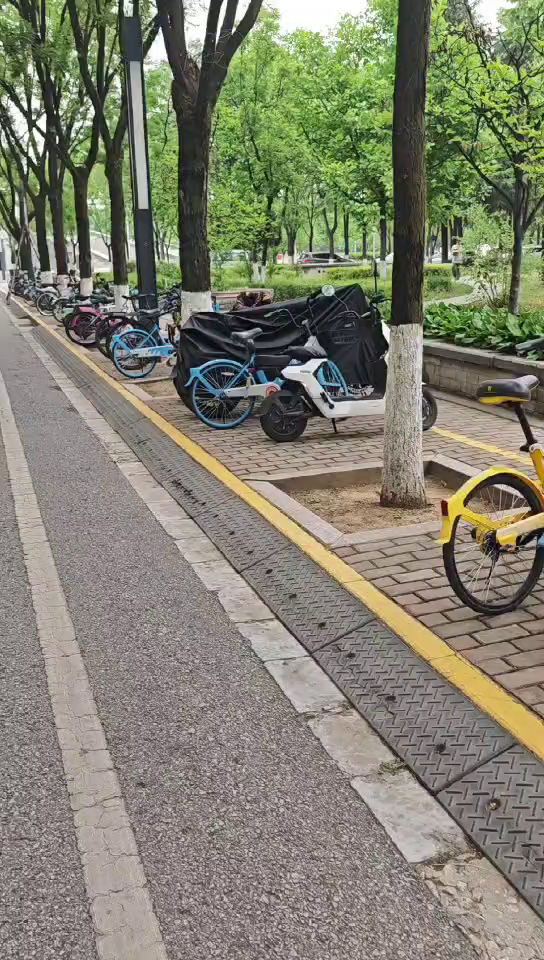others: (269, 304, 445, 444)
shared_bike_haluo: (194, 313, 350, 427), (109, 298, 201, 375)
shared_bike_meituan: (421, 357, 544, 626)
